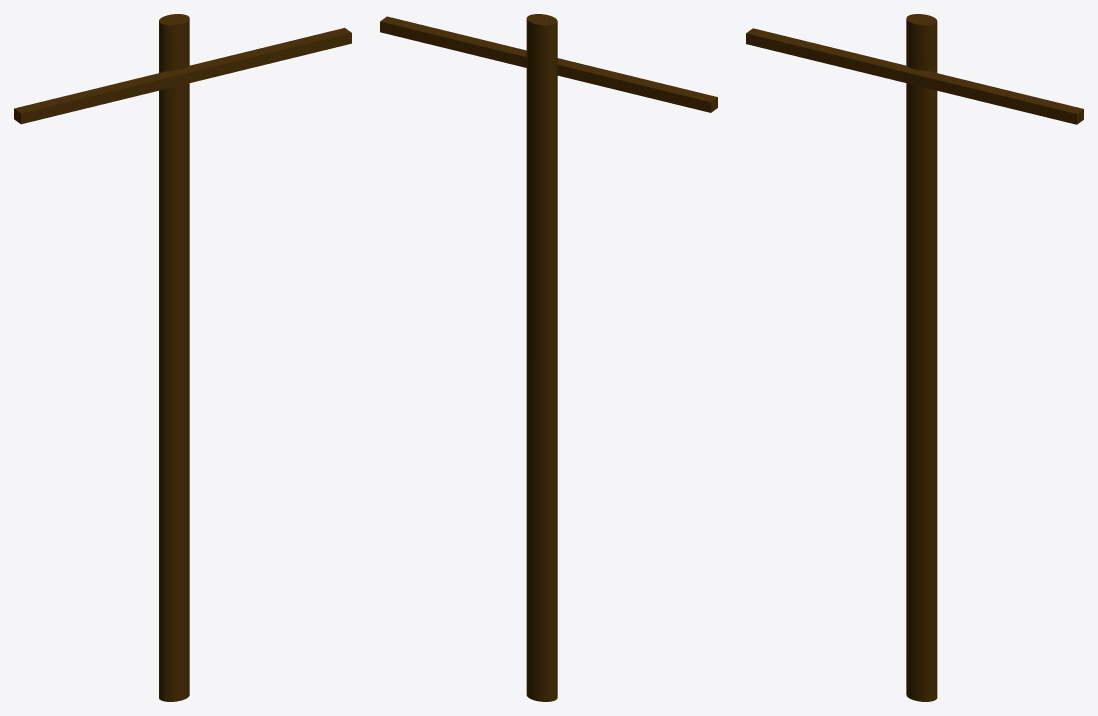
File: power_line_02.glb
3 views of the same model, side by side, from view 1: azimuth 30°, elevation 25°; view 2: azimuth 150°, elevation 25°; view 3: azimuth 330°, elevation 25° (orthographic).
Parts seen in each view (by area): view 1: PowerLine02; view 2: PowerLine02; view 3: PowerLine02.
Part boxes in pixels (<box>): PowerLine02: <box>14,14,351,701</box>; PowerLine02: <box>380,14,717,701</box>; PowerLine02: <box>746,14,1083,701</box>.
Bounding box in the file's own units: 11 × 21.5 × 0.998.
